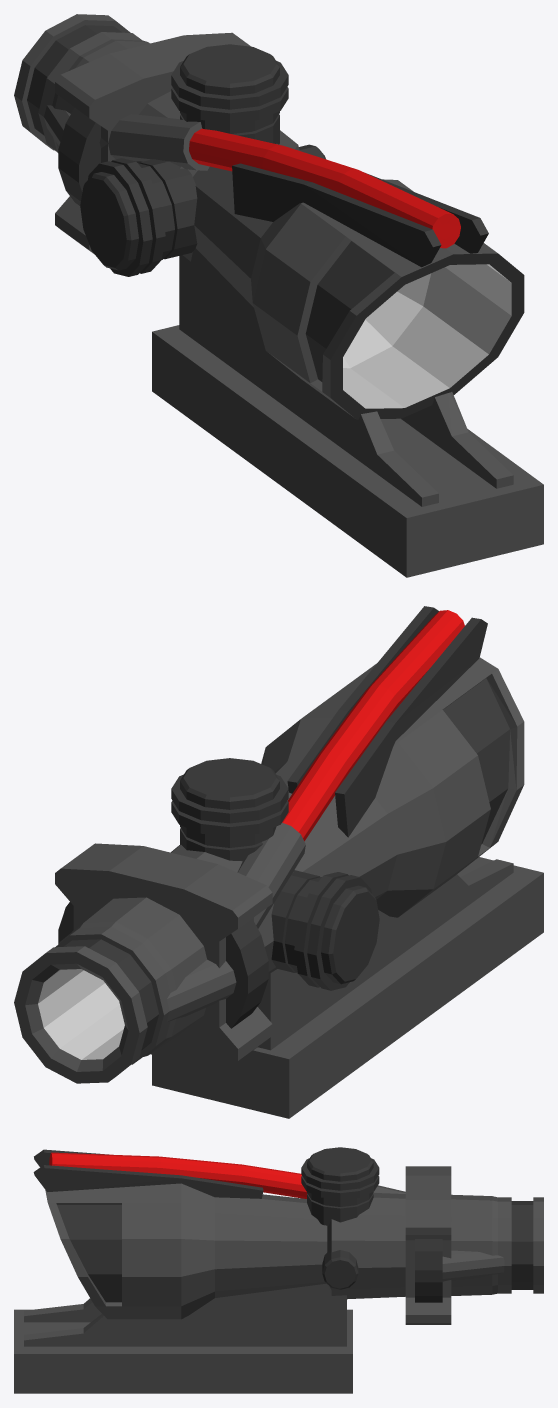
The model's file is optic_01.fbx.
3 views of the same model, one above another, from view 1: azimuth 30°, elevation 25°; view 2: azimuth 150°, elevation 25°; view 3: azimuth 270°, elevation 25° (orthographic). The views are drawn at different scales.
Visible parts, largest first — view 1: ACOG; view 2: ACOG; view 3: ACOG.
Boxes of the visible parts, box(x1,y1,x2,y2) form: ACOG: box(14, 14, 543, 577); ACOG: box(14, 606, 543, 1118); ACOG: box(14, 1147, 543, 1393).
Size of the model in its own units: 6.18 by 8.65 by 19.11.
